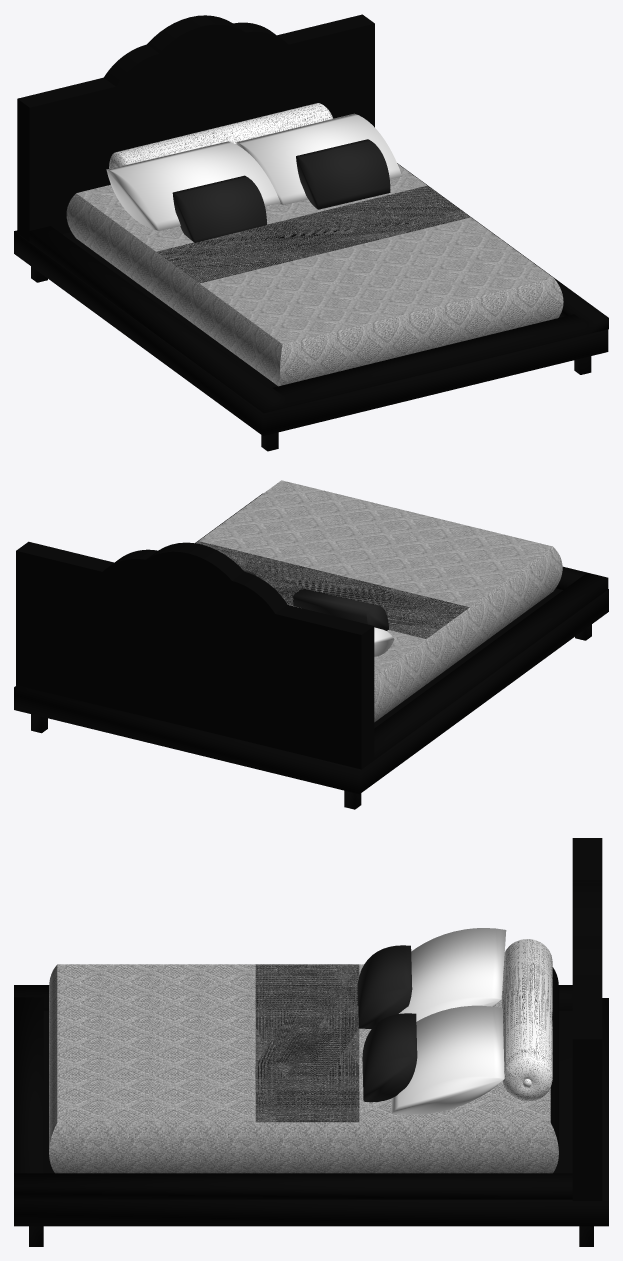
The model's file is bed3.dae.
3 renders of one model, top to bottom at view 1: azimuth 30°, elevation 25°; view 2: azimuth 150°, elevation 25°; view 3: azimuth 270°, elevation 25°, orthographic. The views are drawn at different scales.
Parts seen in each view (by area): view 1: group_0 (×2), SketchUp (×6), group_1, boulsterpillow; view 2: group_1, group_0 (×2), SketchUp (×4); view 3: group_0 (×3), SketchUp (×6), group_1, boulsterpillow.
Part boxes in pixels (x1,y1,x2,y2): group_0 (×2): [66, 164, 563, 386]; SketchUp (×6): [14, 113, 608, 435]; group_1: [17, 14, 374, 241]; boulsterpillow: [109, 103, 332, 168]; group_1: [16, 541, 374, 769]; group_0 (×2): [196, 480, 562, 722]; SketchUp (×4): [14, 493, 608, 794]; group_0 (×3): [49, 964, 558, 1173]; SketchUp (×6): [14, 928, 608, 1226]; group_1: [572, 838, 602, 1200]; boulsterpillow: [502, 939, 552, 1101].
Bounding box in the file's own units: 96.17 × 120 × 58.15.
5 materials, 2 textured.
